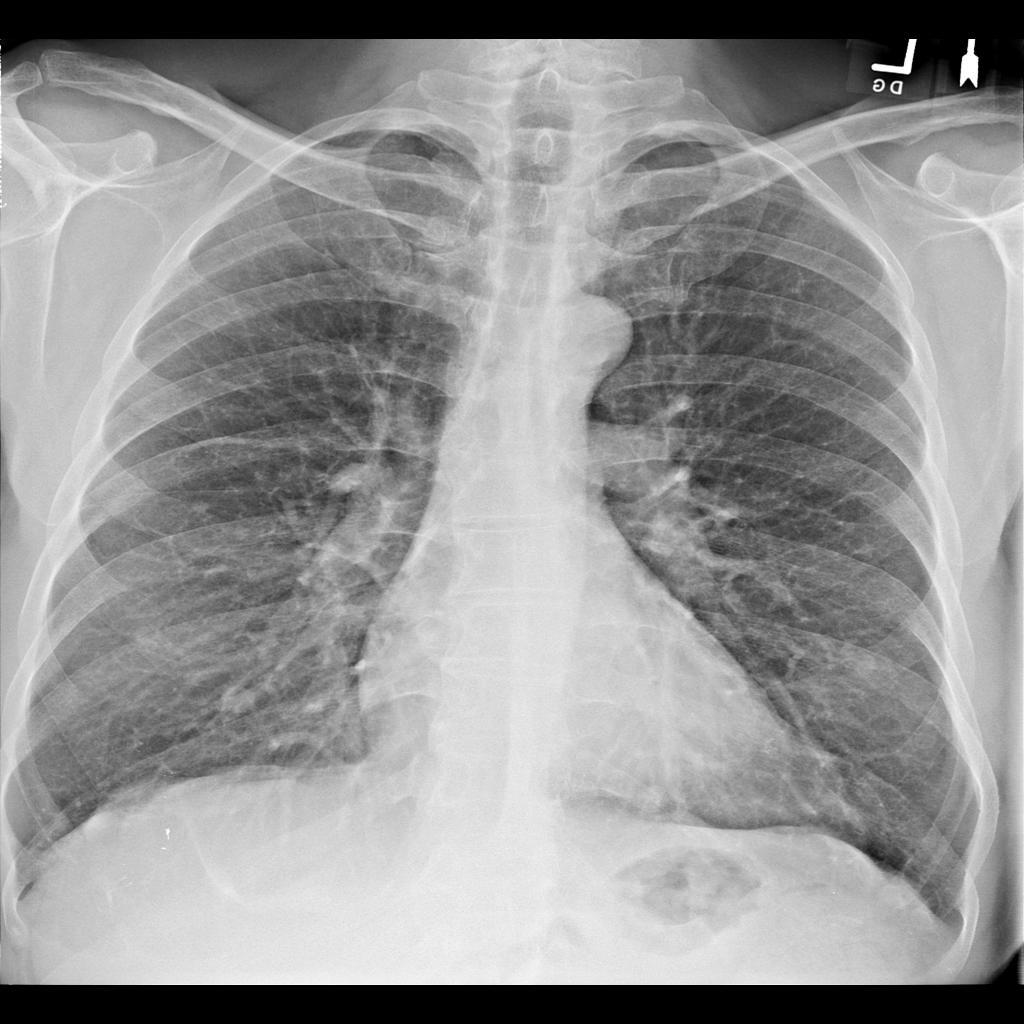Nodule: (223, 689, 265, 719)
